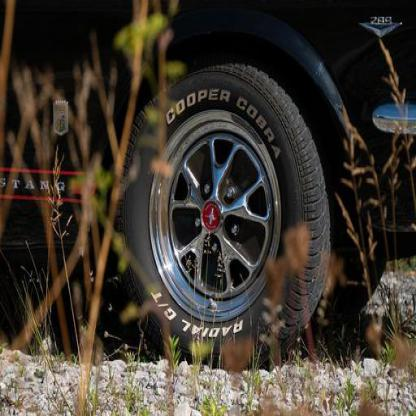Tire: (111, 49, 331, 369)
